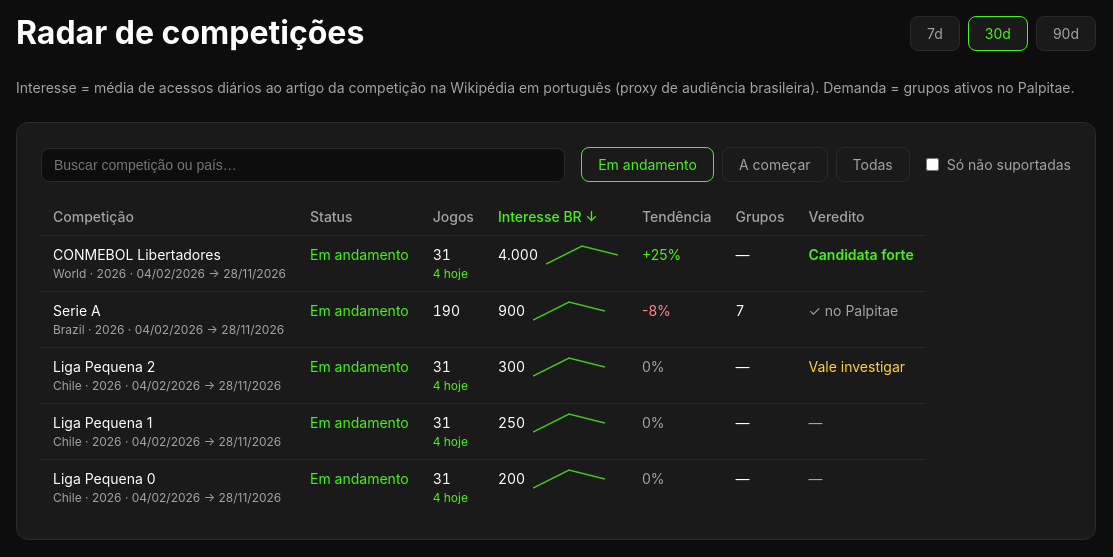
Test: AdminRadarPage › filtra por competição não suportada
expect the text "CONMEBOL Libertadores" is shown: met, box [53,246,221,263]
Click the checkbox labelled "Só não suportadas": (932,164) [926,158,939,171]
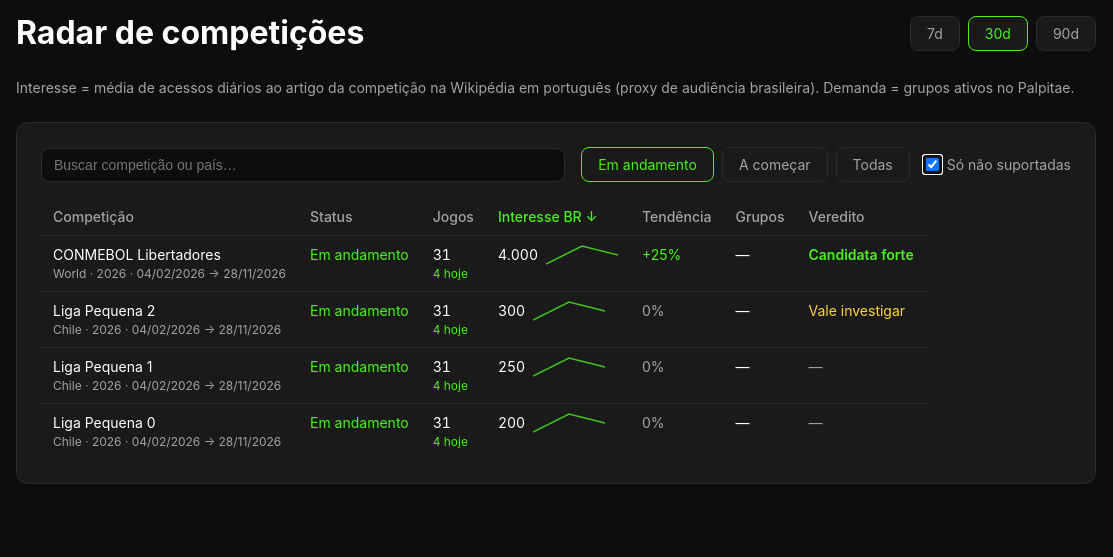
expect the text "CONMEBOL Libertadores" is shown: met, box [53,246,221,263]
expect the text "Serie A" is gone: met
